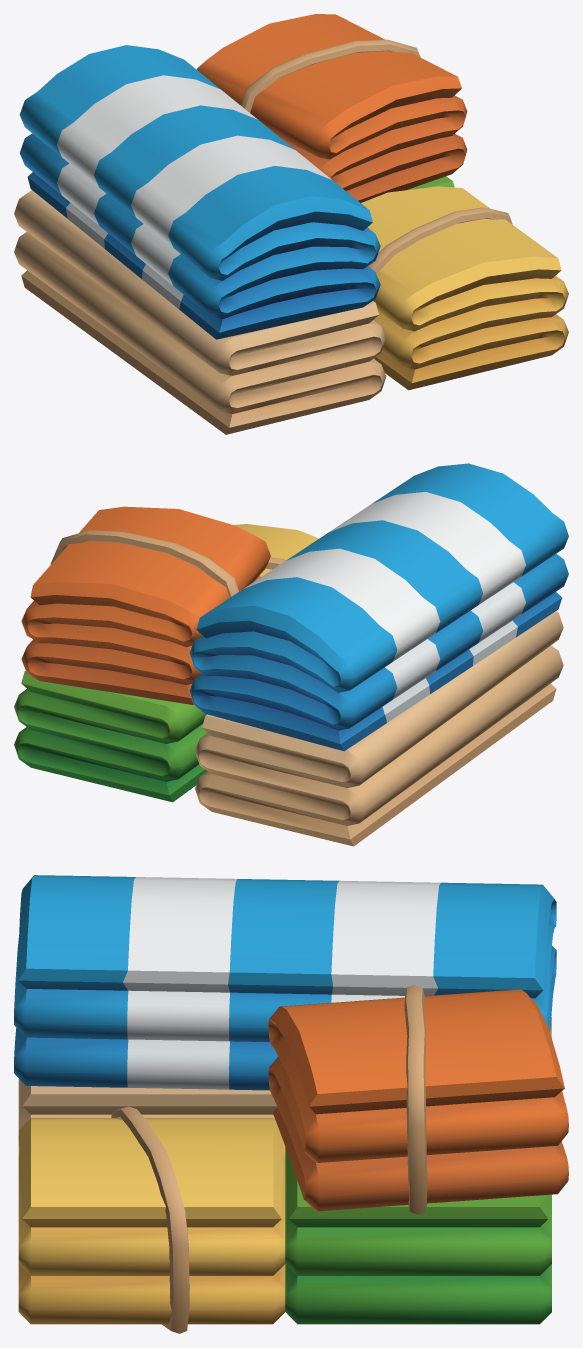
File: textiles_stack_large_colored.glb
3 views of the same model, one above another, from view 1: azimuth 30°, elevation 25°; view 2: azimuth 150°, elevation 25°; view 3: azimuth 270°, elevation 25° (orthographic). The views are drawn at different scales.
Parts seen in each view (by area): view 1: Textiles_Stack_Large_Colored; view 2: Textiles_Stack_Large_Colored; view 3: Textiles_Stack_Large_Colored.
Boxes of the visible parts, x1,y1,x2,y2 form: Textiles_Stack_Large_Colored: (14, 14, 568, 434); Textiles_Stack_Large_Colored: (14, 463, 568, 846); Textiles_Stack_Large_Colored: (14, 875, 568, 1333).
Bounding box in the file's own units: 1.64 × 0.9556 × 1.66.
1 material, 1 textured.
